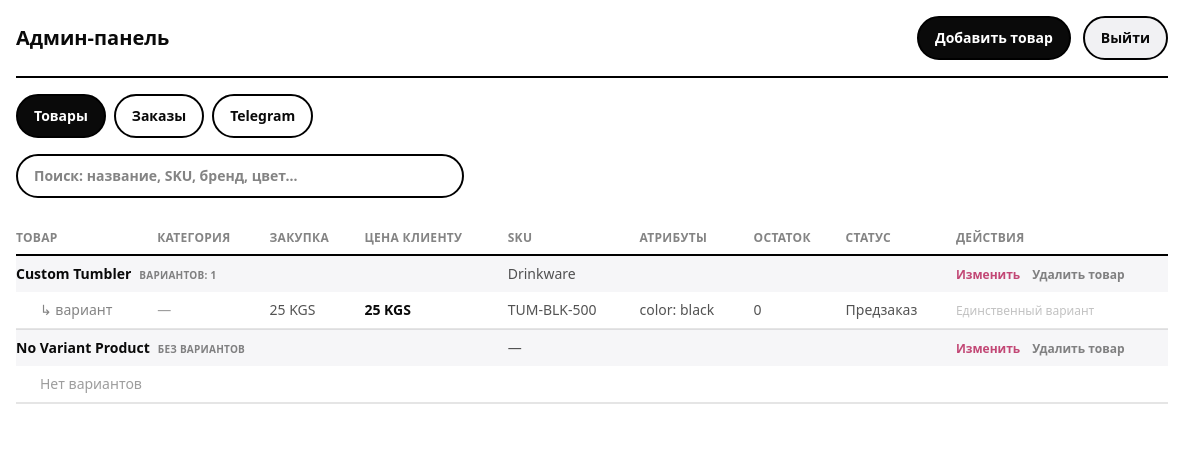
Test: AdminDashboard › switches to the orders tab, fetches, and renders orders
Click the button "Заказы".
click(159, 116)  # box x1=114 y1=94 x2=204 y2=138
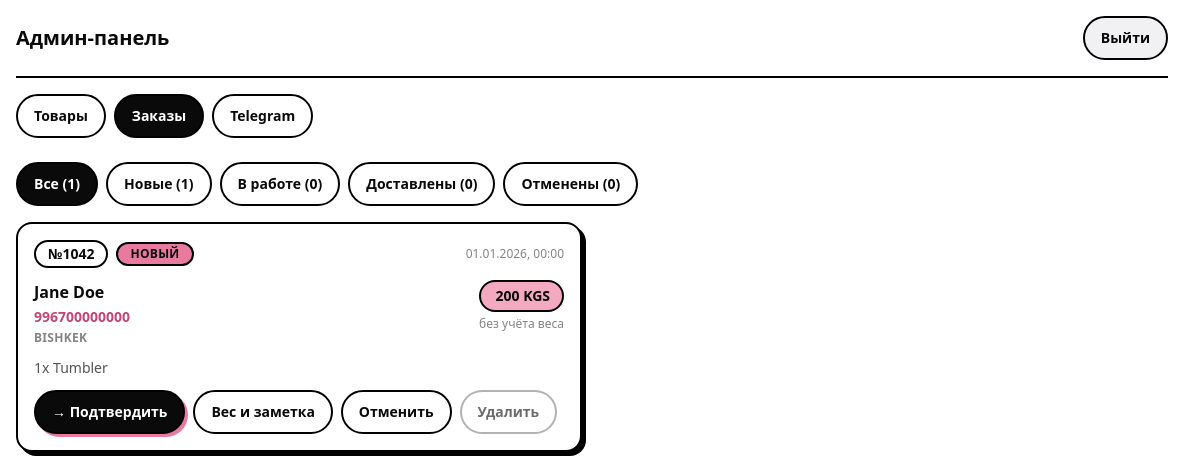
Expected: the text "Jane Doe" is shown, x1=34 y1=281 x2=104 y2=303
Expected: the button "Добавить товар" is gone
